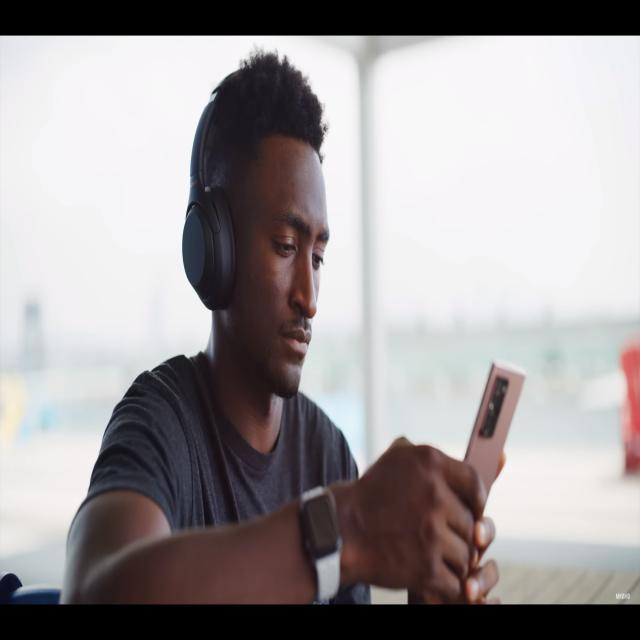Headphone: (181, 86, 238, 312)
